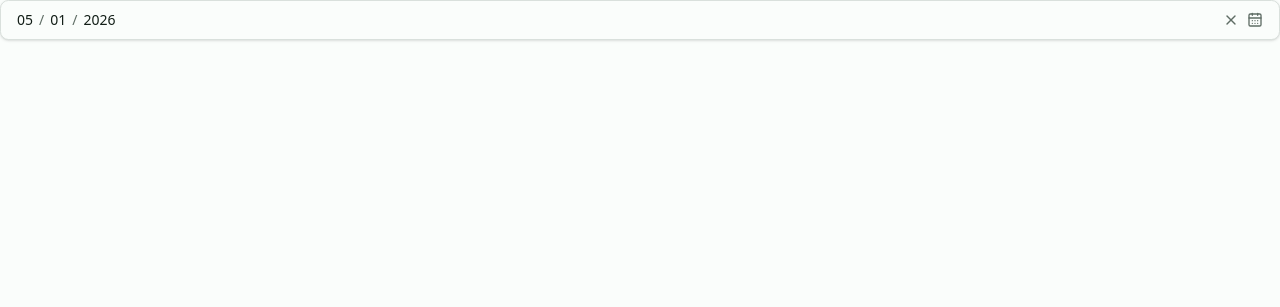
it: DateField calendar › turns the page a month at a time
Click the button named "Open the calendar" at (1255, 20), box x1=1243 y1=8 x2=1267 y2=32
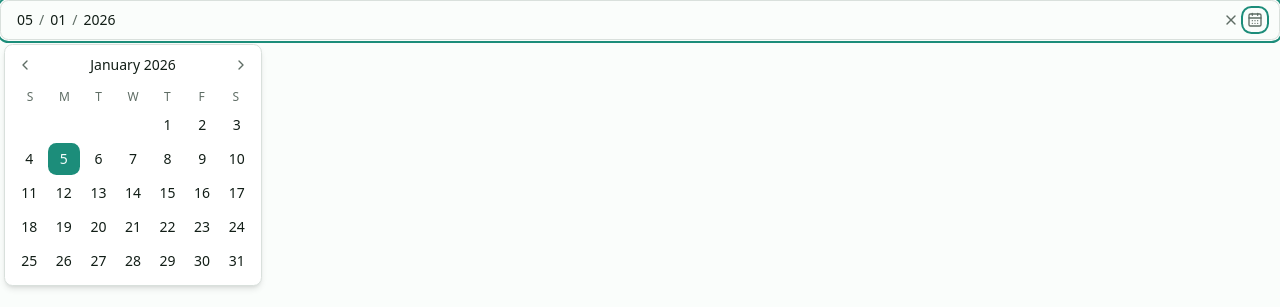
Click the button named "Previous month" at (25, 65), box x1=13 y1=53 x2=37 y2=77
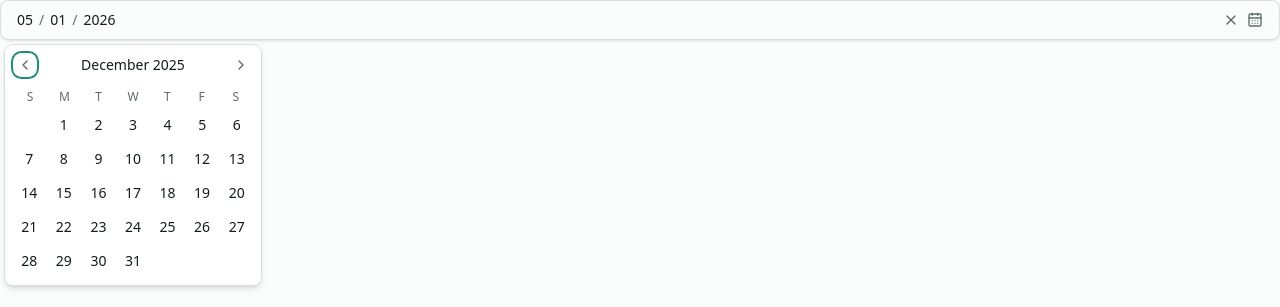
Result: the text "December 2025" is shown at x1=81 y1=55 x2=185 y2=75
